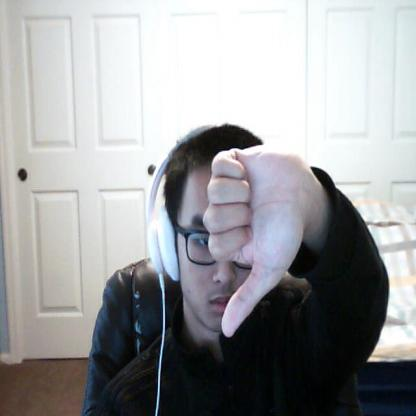Thumbs-Down: (202, 143, 304, 348)
